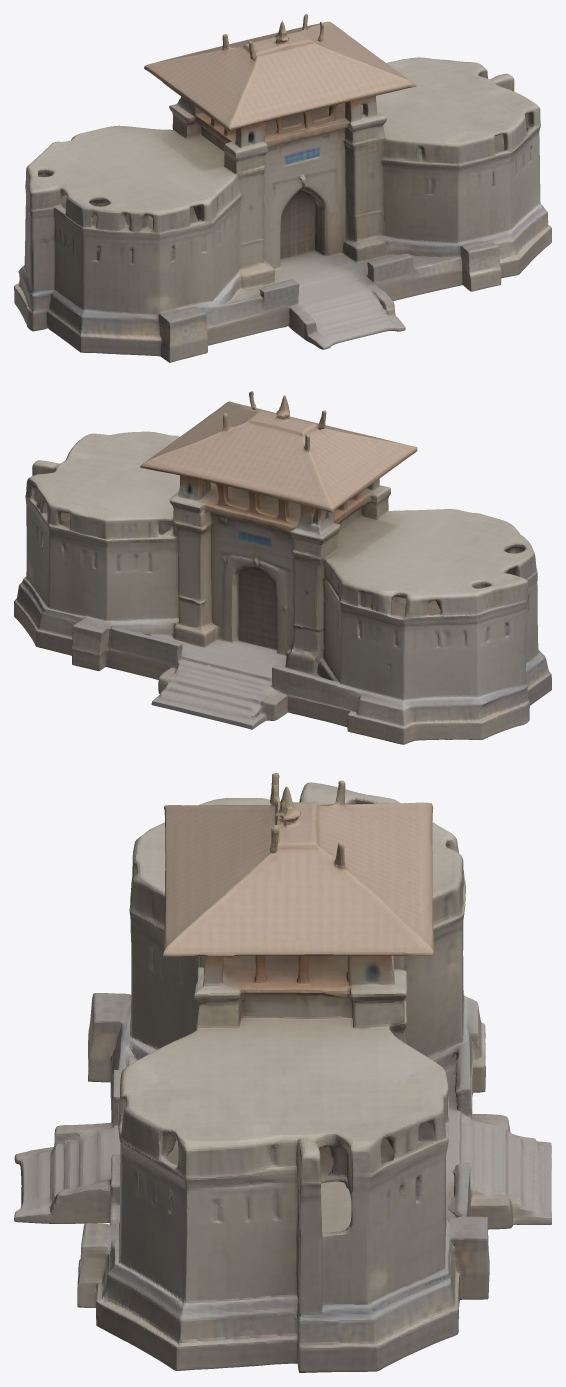
The picture shows the model from 3 angles, top to bottom: view 1: azimuth 30°, elevation 25°; view 2: azimuth 150°, elevation 25°; view 3: azimuth 270°, elevation 25°; orthographic projection. The views are drawn at different scales.
Visible parts, largest first — view 1: geometry_0; view 2: geometry_0; view 3: geometry_0.
Part boxes in pixels (box(x1,y1,x2,y2)): geometry_0: box(14, 14, 551, 362); geometry_0: box(14, 391, 551, 744); geometry_0: box(14, 773, 551, 1372).
Bounding box in the file's own units: 0.9999 × 0.5069 × 0.607.
